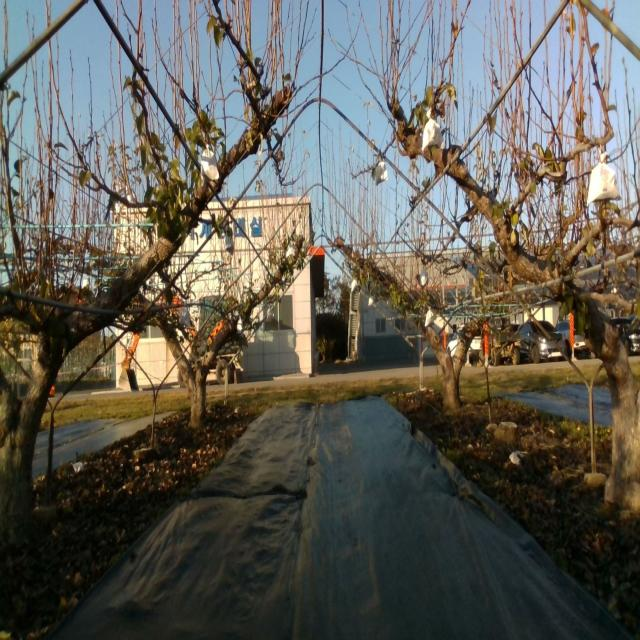pearbags: (587, 152, 622, 208), (421, 110, 445, 152), (200, 144, 220, 185), (376, 158, 388, 183), (424, 305, 435, 327), (179, 306, 190, 326)
